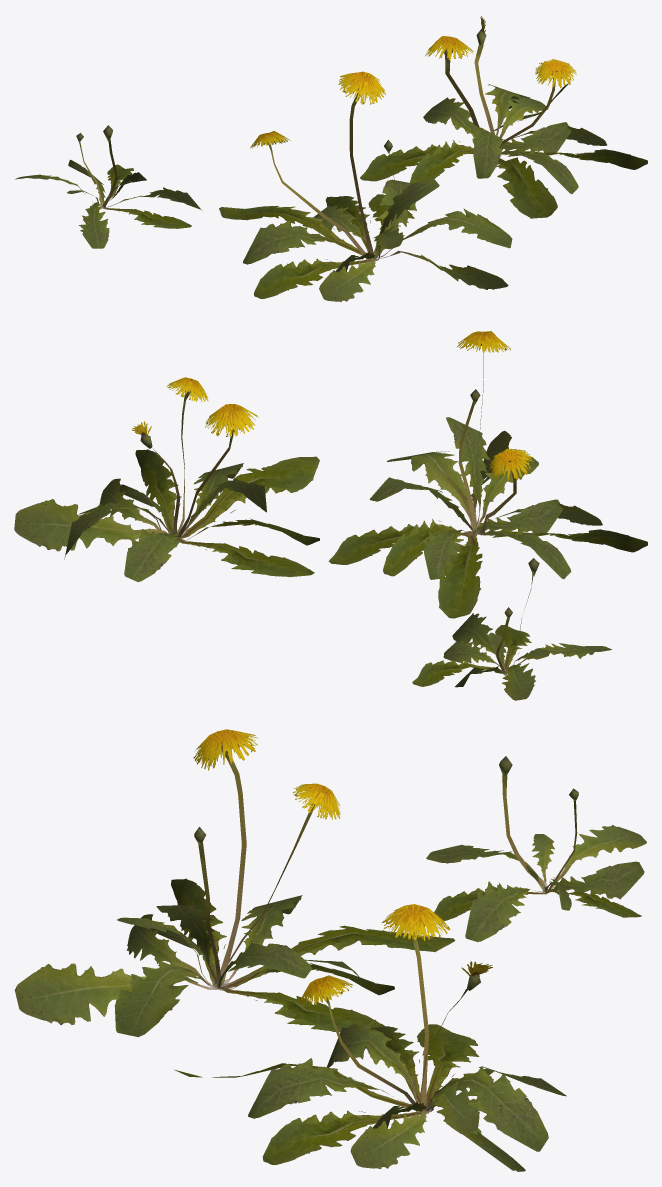
File: cicek_lod1.glb
3 views of the same model, one above another, from view 1: azimuth 30°, elevation 25°; view 2: azimuth 150°, elevation 25°; view 3: azimuth 270°, elevation 25° (orthographic). The views are drawn at different scales.
Visible parts, largest first — view 1: cicek_lod1; view 2: cicek_lod1; view 3: cicek_lod1.
Boxes of the visible parts, x1,y1,x2,y2 form: cicek_lod1: (15, 16, 647, 301); cicek_lod1: (14, 331, 647, 700); cicek_lod1: (14, 729, 646, 1171).
Bounding box in the file's own units: 1.07 × 0.3793 × 0.8591.
1 material, 1 textured.
